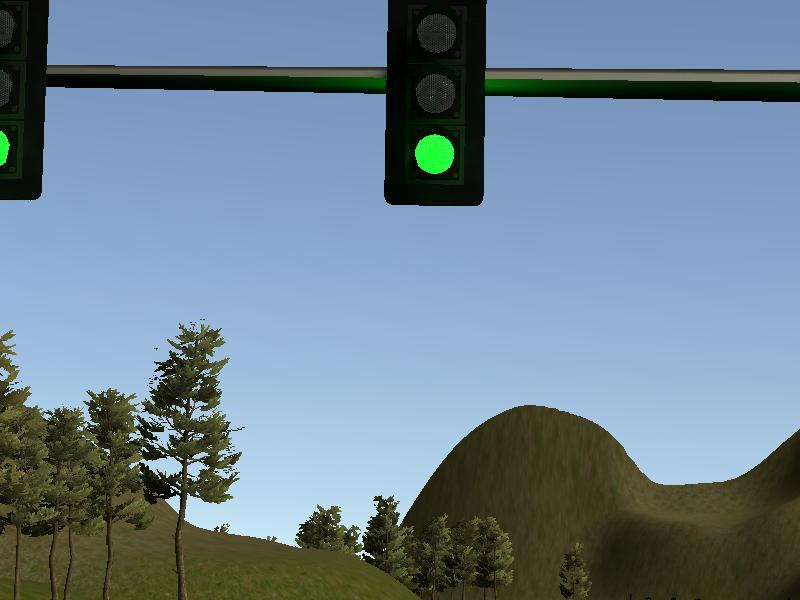Green: (382, 1, 488, 208), (1, 1, 51, 202)
